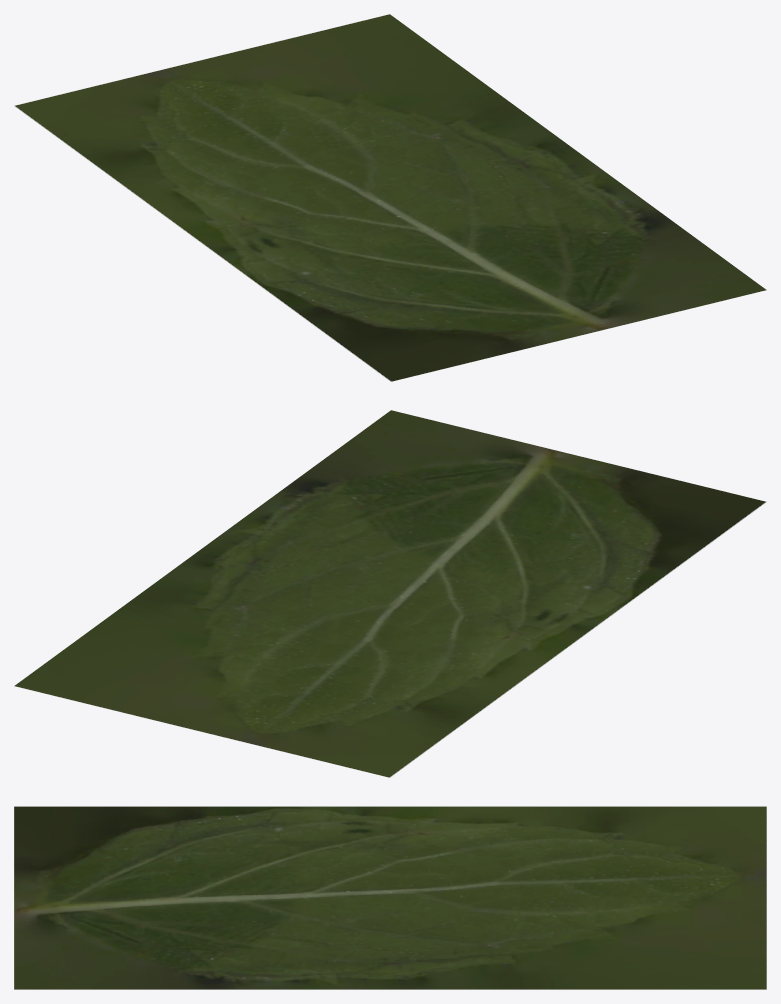
The model's file is leaf_2.gltf.
3 renders of one model, top to bottom at view 1: azimuth 30°, elevation 25°; view 2: azimuth 150°, elevation 25°; view 3: azimuth 270°, elevation 25°, orthographic.
Parts seen in each view (by area): view 1: Leaf_1; view 2: Leaf_1; view 3: Leaf_1.
Part boxes in pixels (bbox=[...]): Leaf_1: bbox=[14, 14, 766, 381]; Leaf_1: bbox=[14, 410, 766, 777]; Leaf_1: bbox=[14, 806, 766, 989].
Size of what is drawn, in the model's own units: 0.198 by 0 by 0.344.
1 material, 1 textured.
